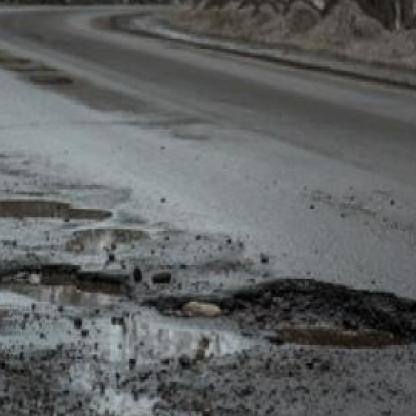pothole: (154, 272, 416, 356), (0, 256, 136, 309), (0, 190, 107, 225), (35, 71, 76, 89), (0, 55, 28, 69)
